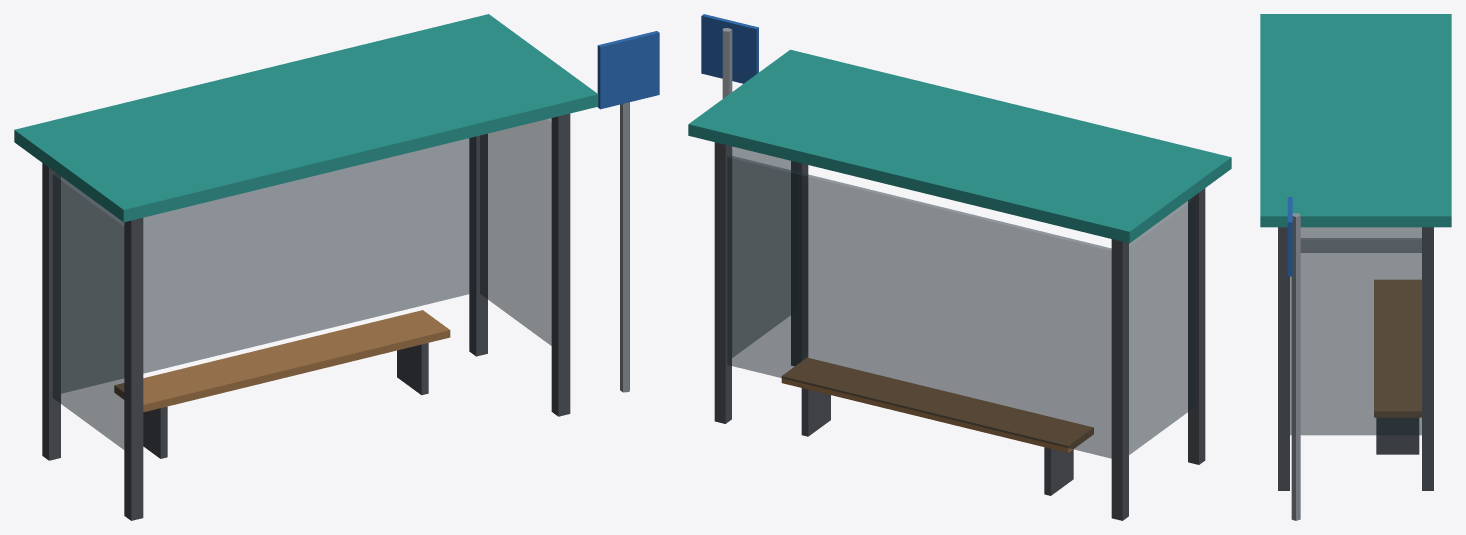
Rendered from bus_stop.glb.
The picture shows the model from 3 angles, left to right: view 1: azimuth 30°, elevation 25°; view 2: azimuth 150°, elevation 25°; view 3: azimuth 270°, elevation 25°; orthographic projection. The views are drawn at different scales.
Visible parts, largest first — view 1: bus_stop; view 2: bus_stop; view 3: bus_stop.
Boxes of the visible parts, x1,y1,x2,y2 form: bus_stop: (14, 14, 659, 520); bus_stop: (688, 14, 1231, 520); bus_stop: (1260, 14, 1451, 520).
Size of the model in its own units: 4.65 by 2.85 by 1.6.
